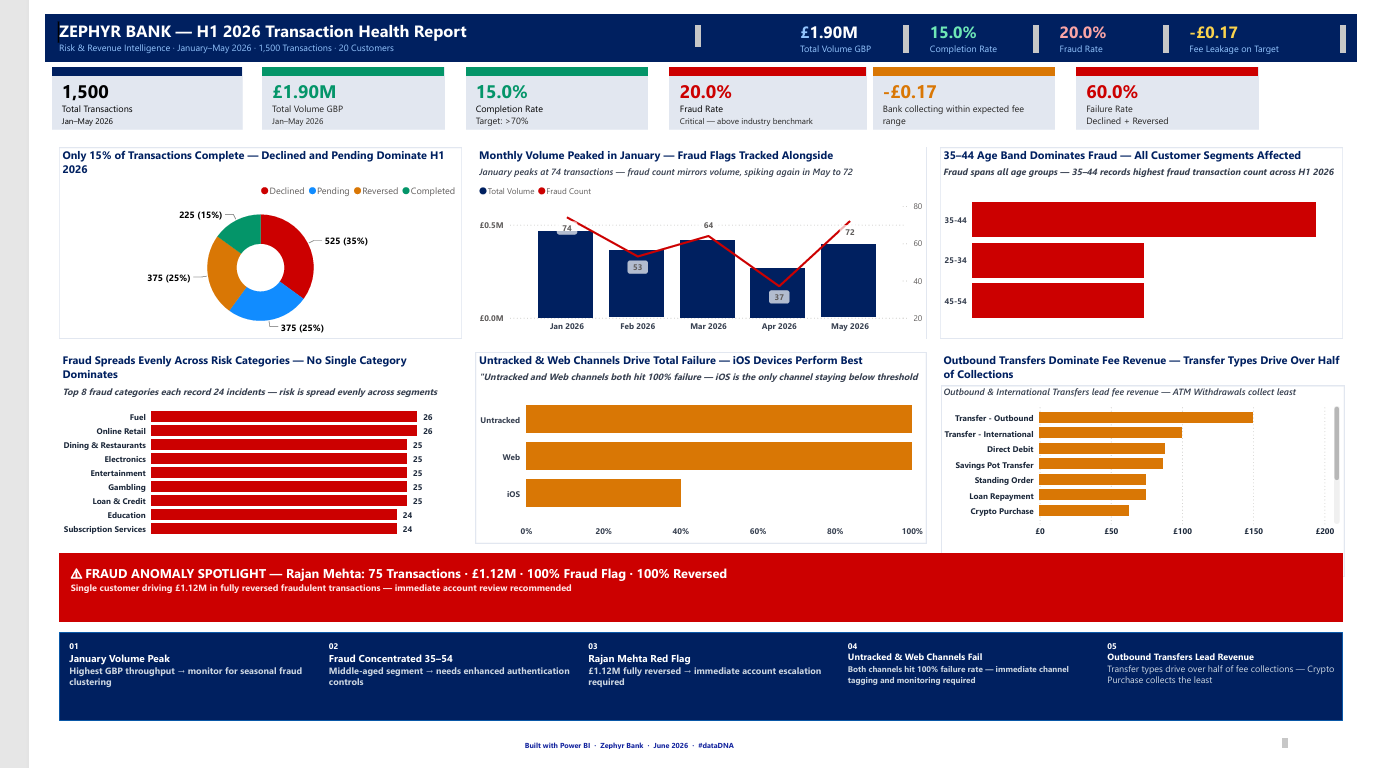

The dashboard page shown, as its layout file describes it:
{"tool":"powerbi","page":{"name":"Final page","canvas":[1920,1080],"ordinal":0},"visuals":[{"type":"shape","box":[10,78,278,90],"z":0,"group":"g5"},{"type":"shape","box":[318,78,265.5,90],"z":0,"group":"g2"},{"type":"shape","box":[616,78,265.5,90],"z":0,"group":"g7"},{"type":"shape","box":[914,78,287.7,90],"z":0,"group":"g4"},{"type":"shape","box":[1212,78,265.5,90],"z":0,"group":"g6"},{"type":"shape","box":[1510,78,265.5,90],"z":0,"group":"g3"},{"type":"shape","box":[20,495,590,280],"z":0},{"type":"shape","box":[10,78,278,12],"z":1000,"group":"g5"},{"type":"shape","box":[318,78,265.5,12],"z":1000,"group":"g2"},{"type":"shape","box":[616,78,265.5,12],"z":1000,"group":"g7"},{"type":"shape","box":[914,78,287.7,12],"z":1000,"group":"g4"},{"type":"shape","box":[1212,78,265.5,12],"z":1000,"group":"g6"},{"type":"shape","box":[1510,78,265.5,12],"z":1000,"group":"g3"},{"type":"shape","box":[1310,195,590,280],"z":1000},{"type":"shape","box":[0,0,1920,70],"z":2000},{"type":"textbox","box":[19.3,88,259.3,80],"z":2000,"group":"g5"},{"type":"textbox","box":[326.9,88,247.7,80],"z":2000,"group":"g2"},{"type":"textbox","box":[624.9,88,247.7,80],"z":2000,"group":"g7"},{"type":"textbox","box":[923.7,88,268.3,80],"z":2000,"group":"g4"},{"type":"textbox","box":[1220.9,88,247.7,80],"z":2000,"group":"g6"},{"type":"textbox","box":[1518.9,88,247.7,80],"z":2000,"group":"g3"},{"type":"textbox","box":[15,8,950,55],"z":3000},{"type":"textbox","box":[1100,8,170,55],"z":4000},{"type":"textbox","box":[1290,8,170,55],"z":5000},{"type":"textbox","box":[1480,8,170,55],"z":6000},{"type":"textbox","box":[1670,8,240,55],"z":7000},{"type":"group","id":"g1","title":"Group 1","box":[10,78,278,90],"z":8000},{"type":"group","id":"g2","title":"Group 2","box":[318,78,278,96],"z":9000},{"type":"group","id":"g3","title":"Group 2","box":[1510,78,278,96],"z":10000},{"type":"group","id":"g4","title":"Group 2","box":[914,78,278,96],"z":11000},{"type":"group","id":"g5","title":"Group 2","box":[10,78,278,90],"z":11004,"group":"g1"},{"type":"group","id":"g6","title":"Group 2","box":[1212,78,278,96],"z":12000},{"type":"group","id":"g7","title":"Group 2","box":[616,78,278,96],"z":13000},{"type":"shape","box":[20,195,590,280],"z":14000},{"type":"shape","box":[630,195,660,280],"z":15000},{"type":"donutChart","title":"Completion at 68% — Nearly 1 in 3 Transactions Incomplete","fields":{"Y":["_Measures.Total Transactions"],"Category":["fact_transactions_updated.transaction_status"]},"box":[20,195,590,280],"z":16000},{"type":"lineStackedColumnComboChart","title":"Monthly Volume Peaked in January — Fraud Flags Tracked Alongside","fields":{"Category":["DateTable.Month Name"],"Y":["_Measures.Total Volume"],"Y2":["_Measures.Fraud Count"]},"box":[630,195,660,280],"z":17000},{"type":"shape","box":[1312,544,590,280],"z":18000},{"type":"clusteredBarChart","title":"35–44 Age Band Dominates Fraud — All Customer Segments Affected","fields":{"Category":["dim_customer.age_band"],"Y":["_Measures.Fraud Count"]},"box":[1310,195,590,280],"z":19000},{"type":"clusteredBarChart","title":"Fraud Spreads Evenly Across Risk Categories — No Single Category Dominates","fields":{"Y":["_Measures.Fraud Count"],"Category":["dim_merchant_category.category_name"]},"box":[20,495,590,280],"z":20000},{"type":"shape","box":[630,495,660,280],"z":21000},{"type":"clusteredBarChart","title":"Untracked & Web Channels Drive Total Failure — iOS Devices Perform Best","fields":{"Category":["fact_transactions_updated.device_type"],"Y":["_Measures.Failure Rate"]},"box":[630,495,660,280],"z":22000},{"type":"clusteredBarChart","title":"Outbound Transfers Dominate Fee Revenue — Transfer Types Drive Over Half of Collections","fields":{"Y":["_Measures.Total Fee Revenue"],"Category":["dim_transaction_type.type_name"]},"box":[1310,495,590,280],"z":23000},{"type":"shape","box":[20,790,1880,100],"z":24000},{"type":"textbox","box":[32,800,1860,52],"z":25000},{"type":"shape","box":[20,905,1880,130],"z":26000},{"type":"textbox","box":[30,910,370,120],"z":27000},{"type":"textbox","box":[410,910,370,120],"z":28000},{"type":"textbox","box":[790,910,370,120],"z":29000},{"type":"textbox","box":[1170,910,370,120],"z":30000},{"type":"textbox","box":[1550,910,370,120],"z":31000},{"type":"textbox","box":[0,1056,1824,24],"z":32000}]}

Visuals, with their boxes in screenshot pixels (x1, y1, x2, y2), scaled from the page's 1920x1080 canvas onto the 1374x768 screenshot:
shape: region(7, 55, 206, 119)
shape: region(228, 55, 418, 119)
shape: region(441, 55, 631, 119)
shape: region(654, 55, 860, 119)
shape: region(867, 55, 1057, 119)
shape: region(1081, 55, 1271, 119)
shape: region(14, 352, 437, 551)
shape: region(7, 55, 206, 64)
shape: region(228, 55, 418, 64)
shape: region(441, 55, 631, 64)
shape: region(654, 55, 860, 64)
shape: region(867, 55, 1057, 64)
shape: region(1081, 55, 1271, 64)
shape: region(937, 139, 1360, 338)
shape: region(0, 0, 1373, 50)
textbox: region(14, 63, 199, 119)
textbox: region(234, 63, 411, 119)
textbox: region(447, 63, 624, 119)
textbox: region(661, 63, 853, 119)
textbox: region(874, 63, 1051, 119)
textbox: region(1087, 63, 1264, 119)
textbox: region(11, 6, 691, 45)
textbox: region(787, 6, 909, 45)
textbox: region(923, 6, 1045, 45)
textbox: region(1059, 6, 1181, 45)
textbox: region(1195, 6, 1367, 45)
"Group 1" group: region(7, 55, 206, 119)
"Group 2" group: region(228, 55, 427, 124)
"Group 2" group: region(1081, 55, 1280, 124)
"Group 2" group: region(654, 55, 853, 124)
"Group 2" group: region(7, 55, 206, 119)
"Group 2" group: region(867, 55, 1066, 124)
"Group 2" group: region(441, 55, 640, 124)
shape: region(14, 139, 437, 338)
shape: region(451, 139, 923, 338)
"Completion at 68% — Nearly 1 in 3 Transactions Incomplete" donutChart: region(14, 139, 437, 338)
"Monthly Volume Peaked in January — Fraud Flags Tracked Alongside" lineStackedColumnComboChart: region(451, 139, 923, 338)
shape: region(939, 387, 1361, 586)
"35–44 Age Band Dominates Fraud — All Customer Segments Affected" clusteredBarChart: region(937, 139, 1360, 338)
"Fraud Spreads Evenly Across Risk Categories — No Single Category Dominates" clusteredBarChart: region(14, 352, 437, 551)
shape: region(451, 352, 923, 551)
"Untracked & Web Channels Drive Total Failure — iOS Devices Perform Best" clusteredBarChart: region(451, 352, 923, 551)
"Outbound Transfers Dominate Fee Revenue — Transfer Types Drive Over Half of Collections" clusteredBarChart: region(937, 352, 1360, 551)
shape: region(14, 562, 1360, 633)
textbox: region(23, 569, 1354, 606)
shape: region(14, 644, 1360, 736)
textbox: region(21, 647, 286, 732)
textbox: region(293, 647, 558, 732)
textbox: region(565, 647, 830, 732)
textbox: region(837, 647, 1102, 732)
textbox: region(1109, 647, 1373, 732)
textbox: region(0, 751, 1305, 767)
